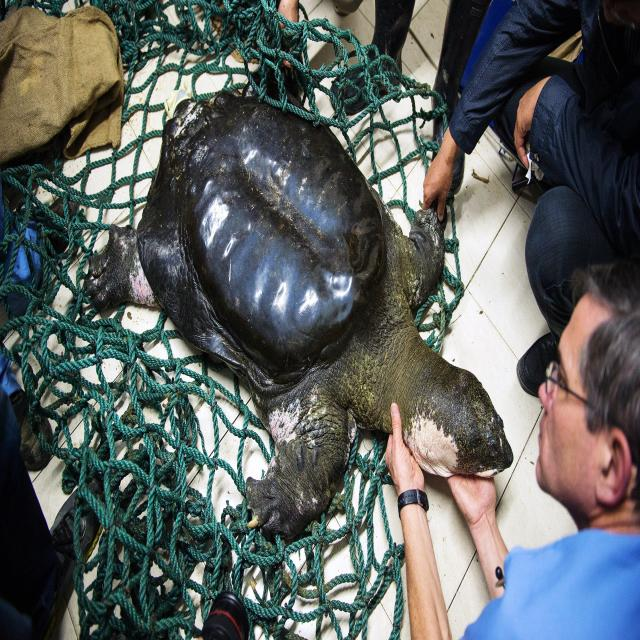turtle: (157, 88, 508, 577)
